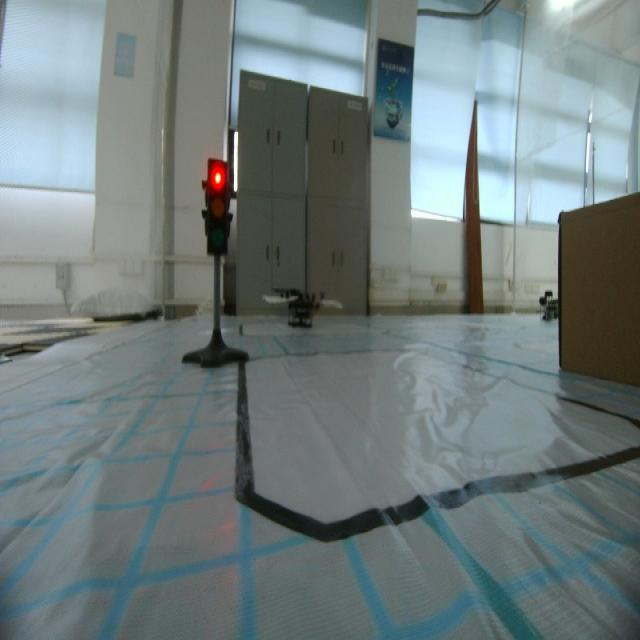red: (202, 148, 234, 267)
